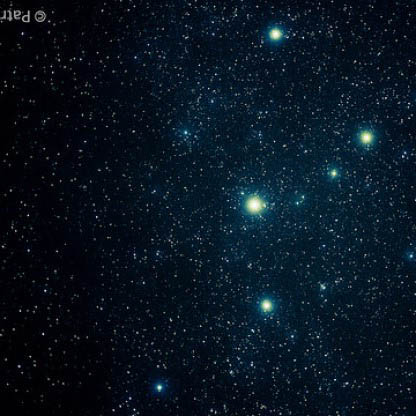Cassiopeia: (317, 118, 389, 186), (227, 174, 277, 228), (251, 14, 303, 60), (251, 286, 282, 323), (146, 373, 178, 408)
